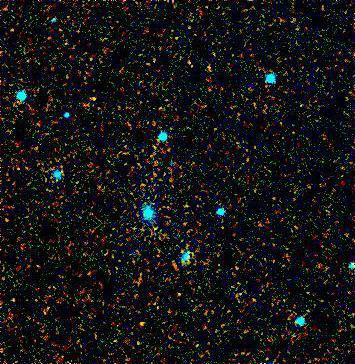star: (76, 84, 106, 114)
